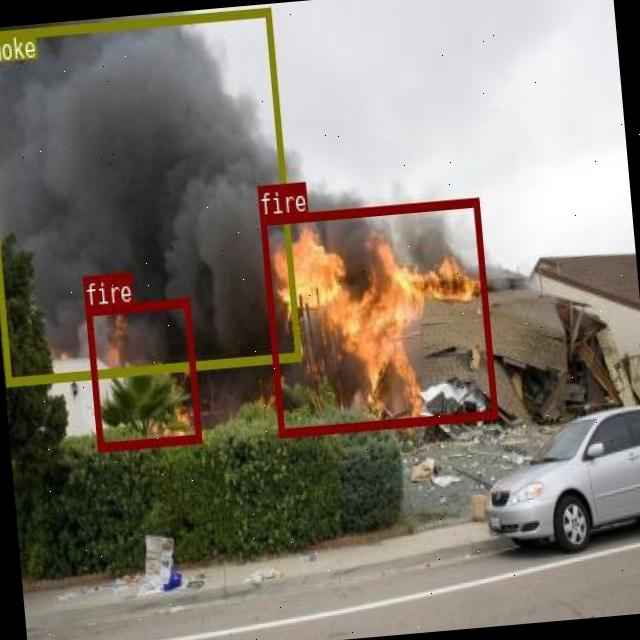fire: (259, 196, 496, 435), (85, 296, 200, 448)
smoke: (0, 6, 299, 383)
